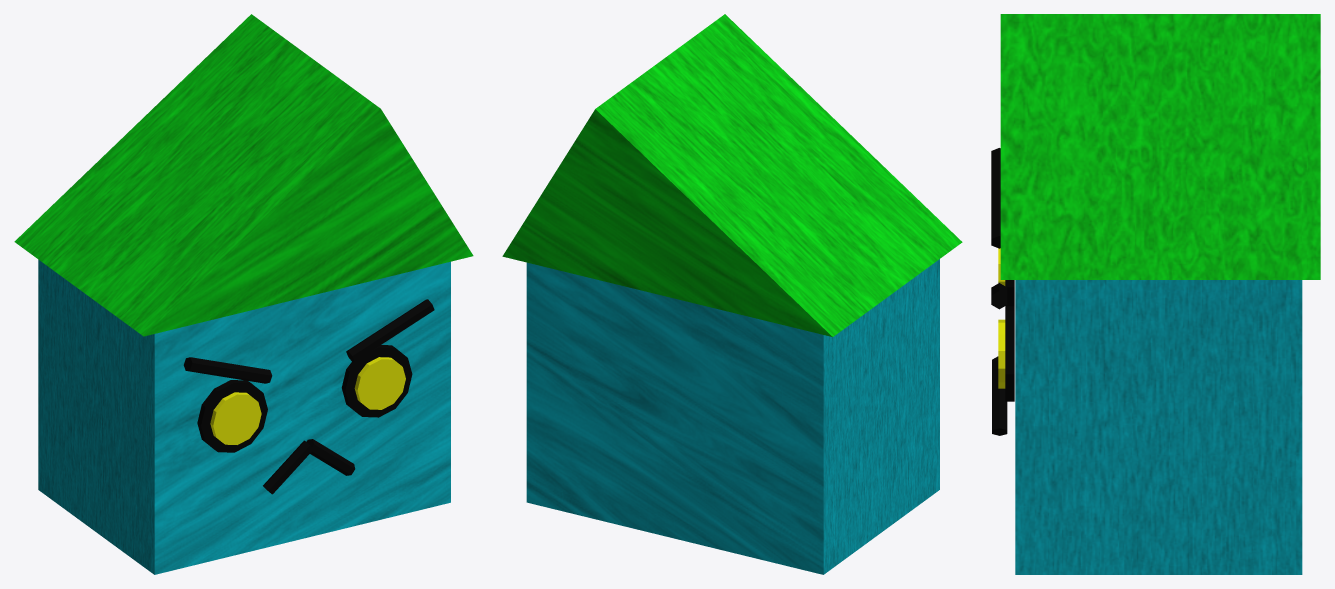
Rendered from bossHead.obj.
The picture shows the model from 3 angles, left to right: view 1: azimuth 30°, elevation 25°; view 2: azimuth 150°, elevation 25°; view 3: azimuth 270°, elevation 25°; orthographic projection. The views are drawn at different scales.
Visible parts, largest first — view 1: bossHead; view 2: bossHead; view 3: bossHead.
Boxes of the visible parts, bbox=[...] form: bossHead: bbox=[14, 14, 473, 574]; bossHead: bbox=[502, 14, 962, 574]; bossHead: bbox=[991, 14, 1320, 574].
Size of the model in its own units: 1.28 by 1.55 by 0.8947.
1 material, 1 textured.
